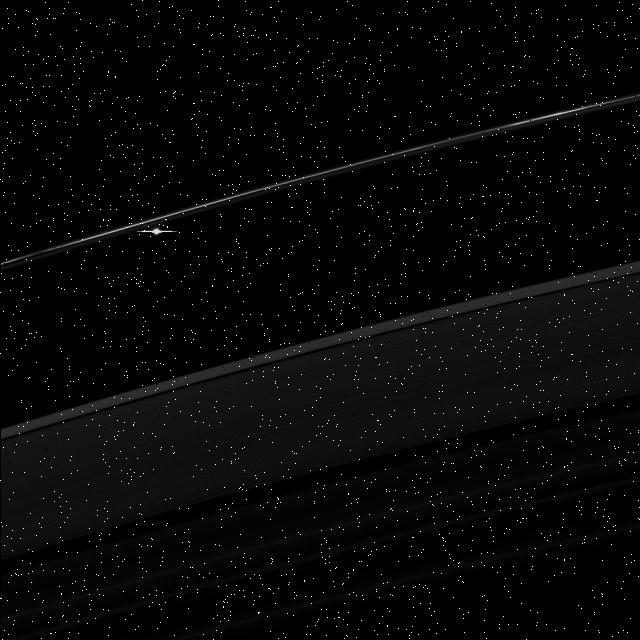Saturn: (0, 82, 640, 640)
